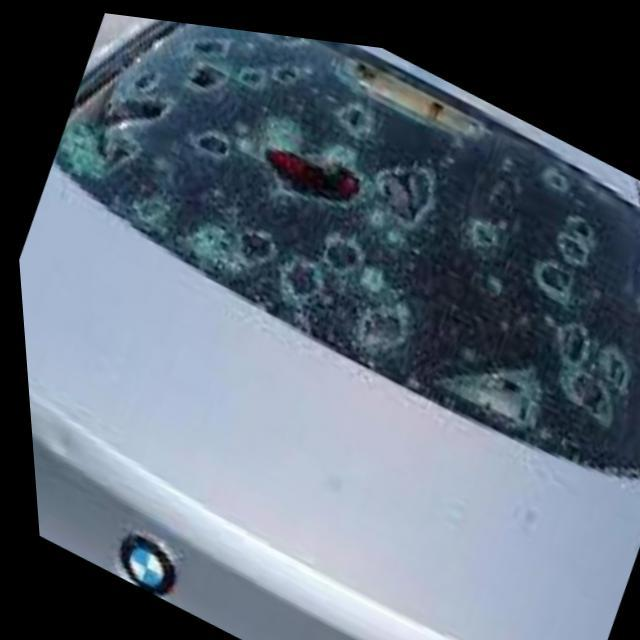glass shatter: (48, 18, 640, 459)
